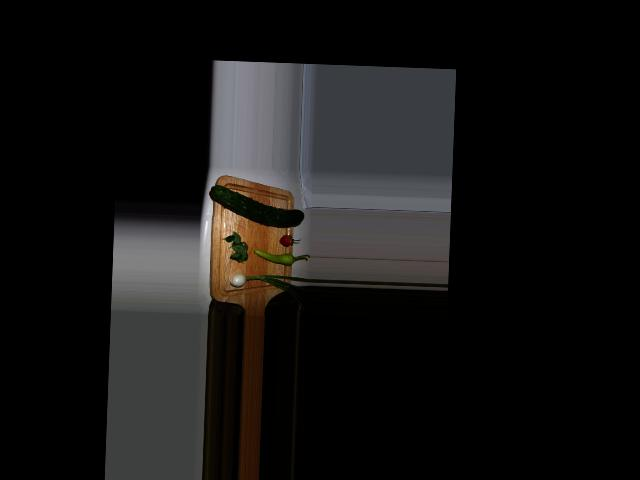cucumber: (209, 184, 304, 227)
